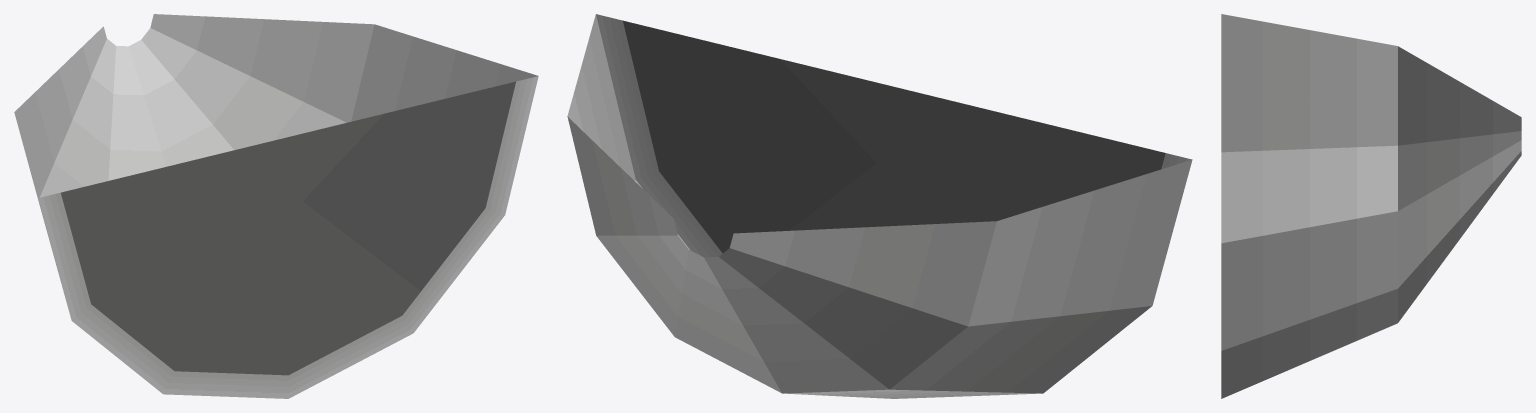
Rendered from pz_native_lighting_indoor_02_78_wall_lamp.obj.
3 renders of one model, left to right at view 1: azimuth 30°, elevation 25°; view 2: azimuth 150°, elevation 25°; view 3: azimuth 270°, elevation 25°, orthographic. The views are drawn at different scales.
Parts seen in each view (by area): view 1: pz_native_lighting_indoor_02_78_wall_lamp; view 2: pz_native_lighting_indoor_02_78_wall_lamp; view 3: pz_native_lighting_indoor_02_78_wall_lamp.
Part boxes in pixels (bbox=[...]): pz_native_lighting_indoor_02_78_wall_lamp: bbox=[14, 14, 538, 398]; pz_native_lighting_indoor_02_78_wall_lamp: bbox=[567, 14, 1192, 398]; pz_native_lighting_indoor_02_78_wall_lamp: bbox=[1221, 14, 1521, 398].
Size of the model in its own units: 0.4226 by 0.2113 by 0.2336.
Materials: 1 (1 with a texture image).
